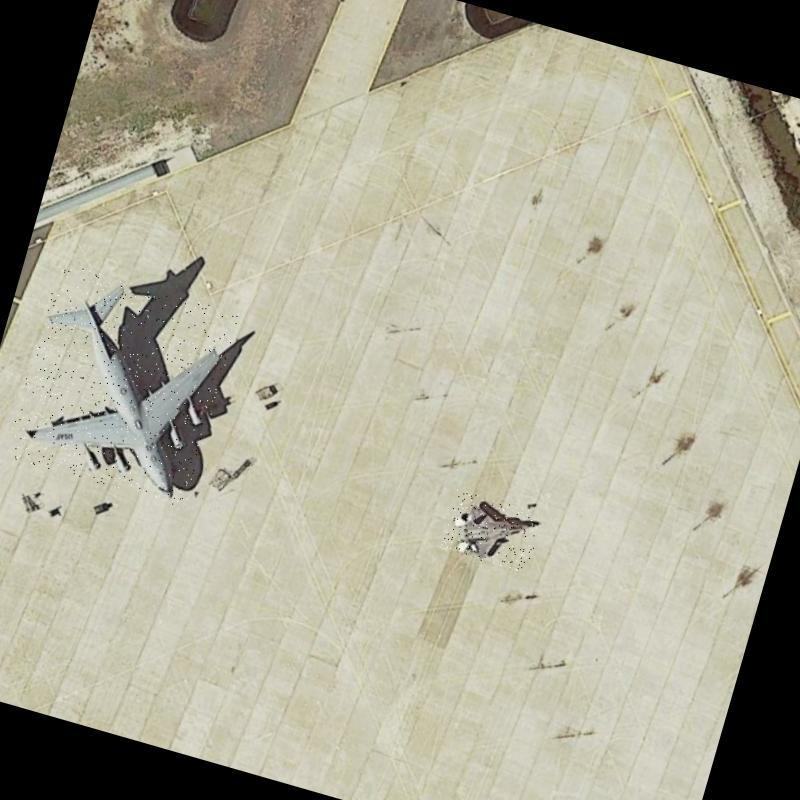A15: (439, 490, 544, 574)
A3: (4, 262, 240, 508)
